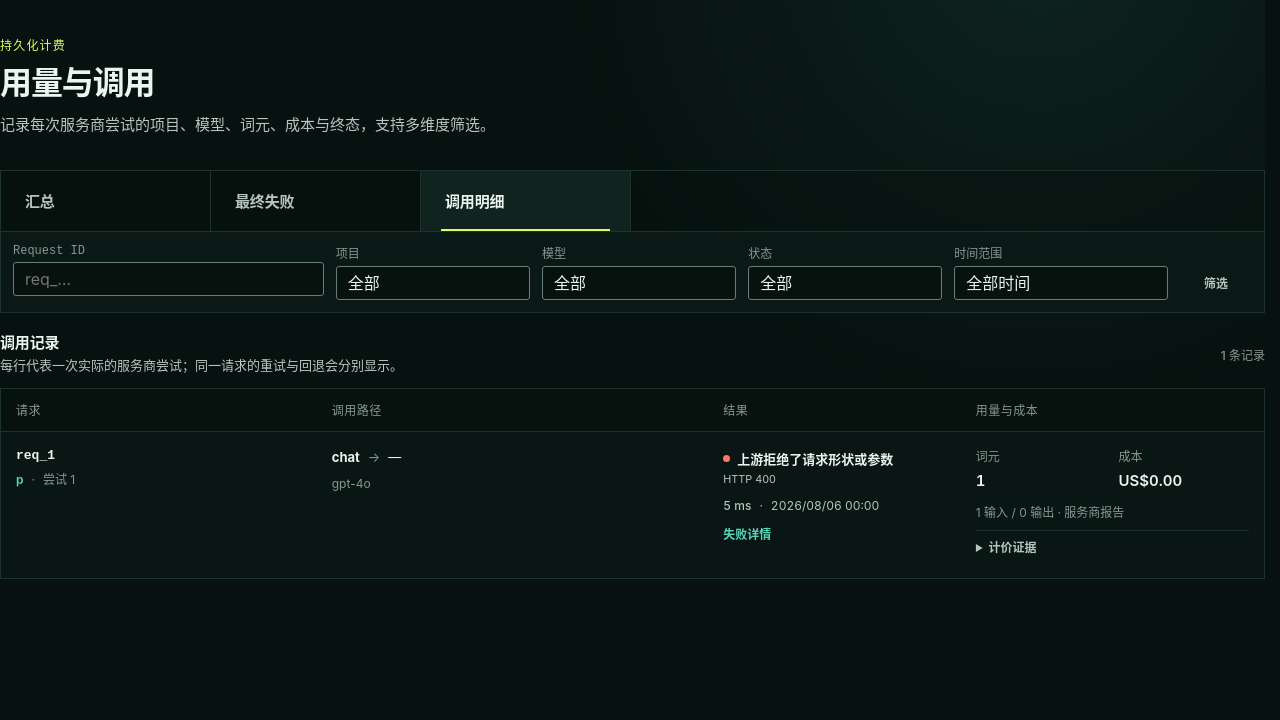
Test case: UsagePage failure detail › says a record predates the fields rather than showing an empty code
Check: the text "上游拒绝了请求形状或参数" is shown, box [723,451,893,468]
Click the button "失败详情" at (747,535), box [723,527,771,543]
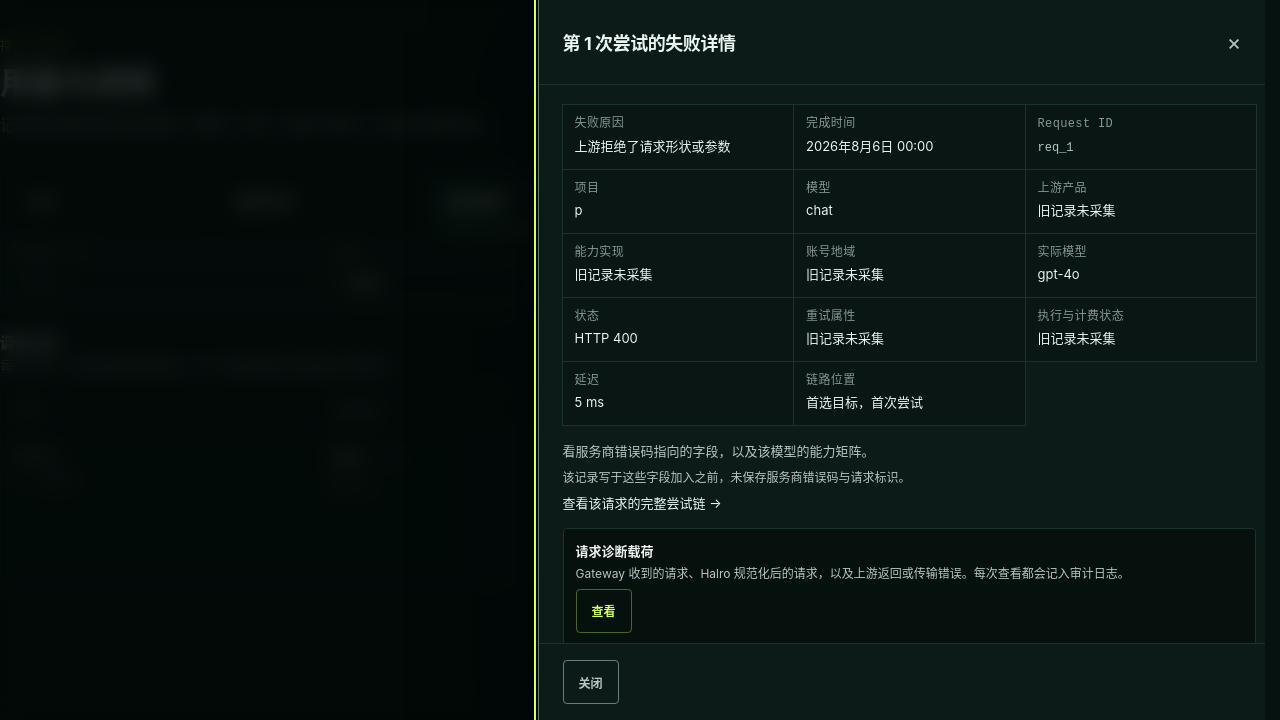
Check: the text "该记录写于这些字段加入之前，未保存服务商错误码与请求标识。" is shown, box [563,470,911,485]
